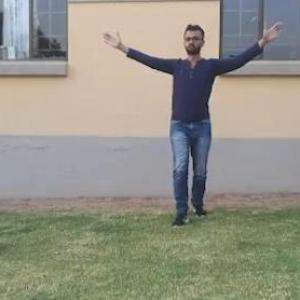takeoff: (104, 20, 279, 217)
